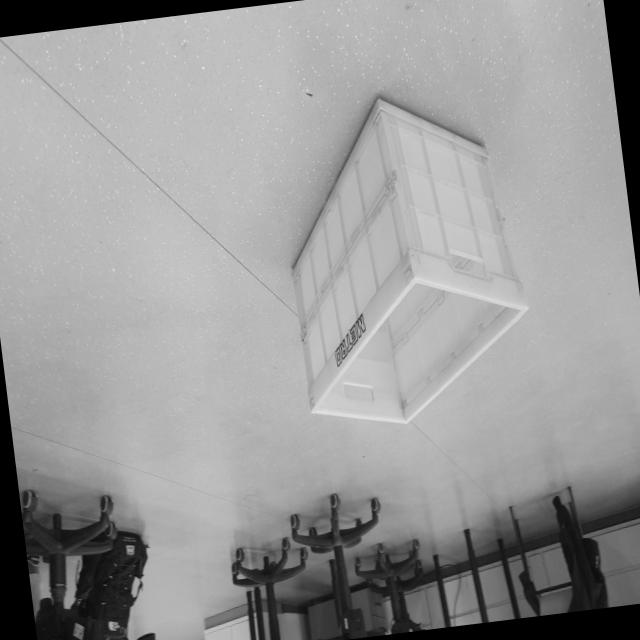box: (269, 75, 544, 448)
